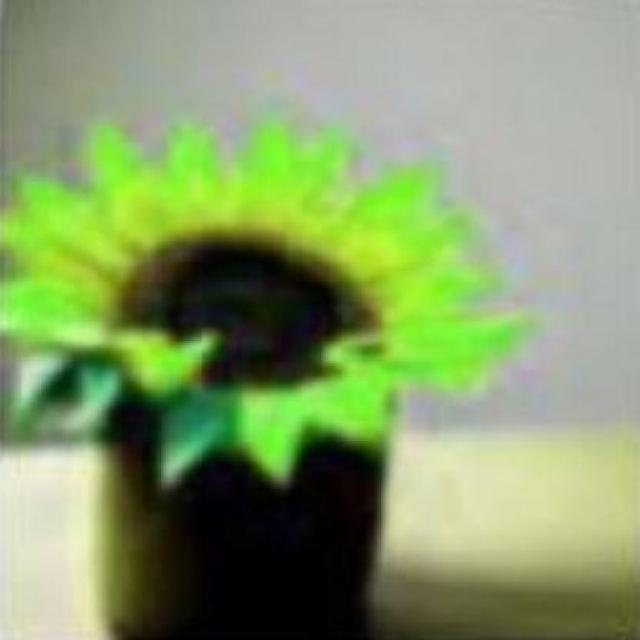sunflower: (0, 116, 533, 496)
